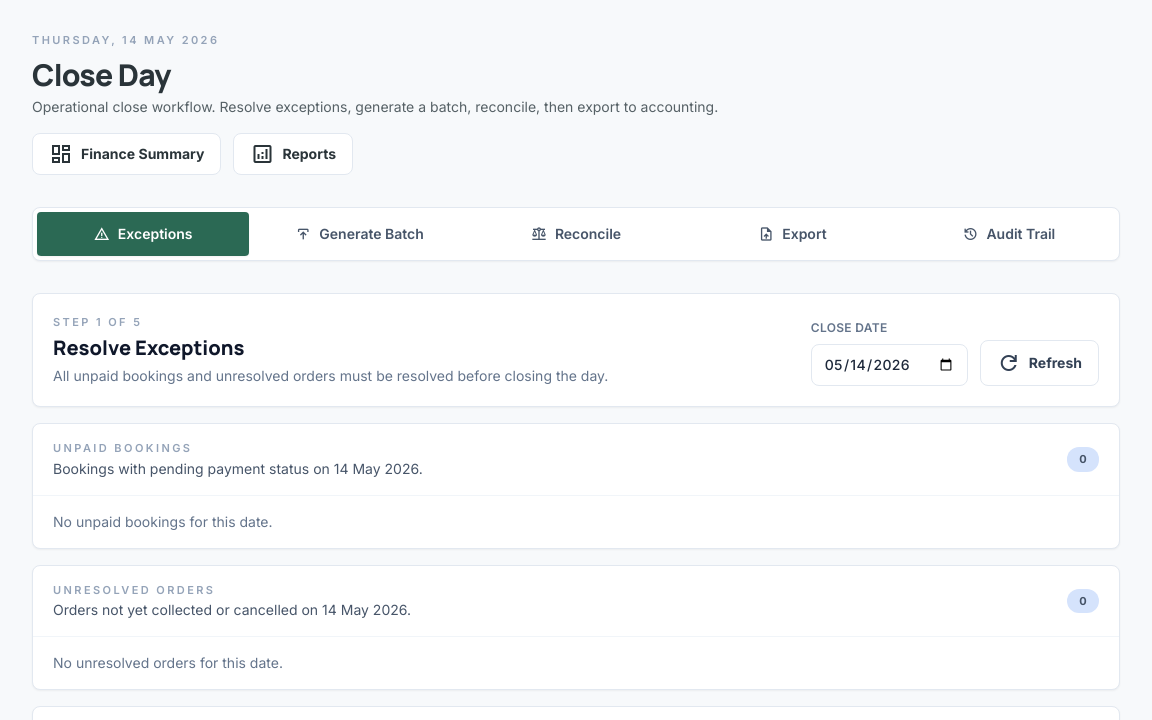
Test: AdminFinancePage - Close Day wizard › navigates through all steps via step nav buttons
Click the button named "publish generate batch": point(360, 234) [253,212,466,256]
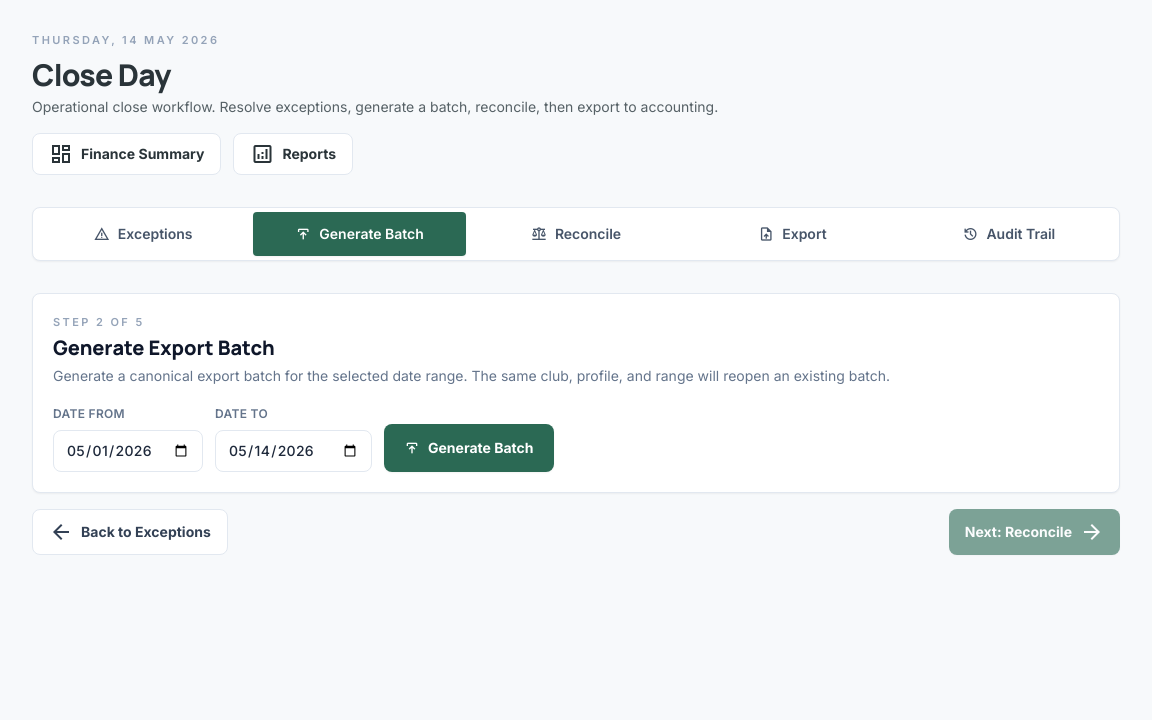
Check: the heading "Generate Export Batch" is shown, box [53,334,275,361]
Click the button named "balance reconcile": point(576, 234) [470,212,682,256]
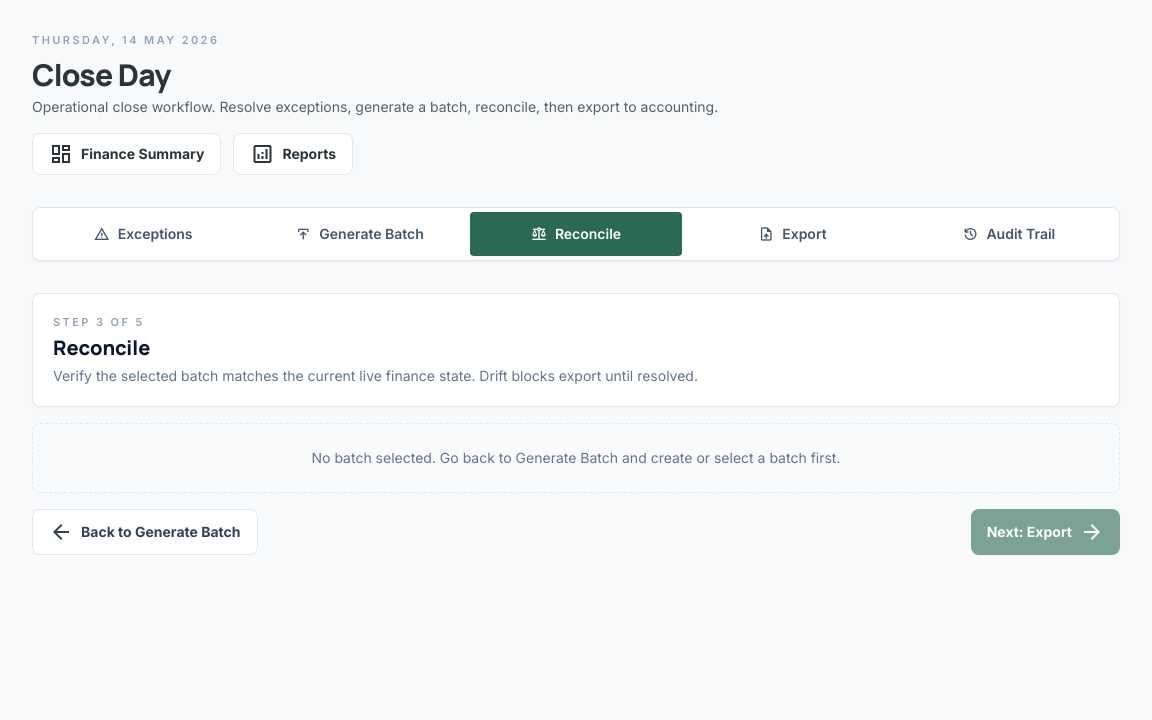
Check: the heading "Reconcile" is shown, box [53,334,150,361]
Click the button named "history audit trail": point(1009, 234) [903,212,1115,256]
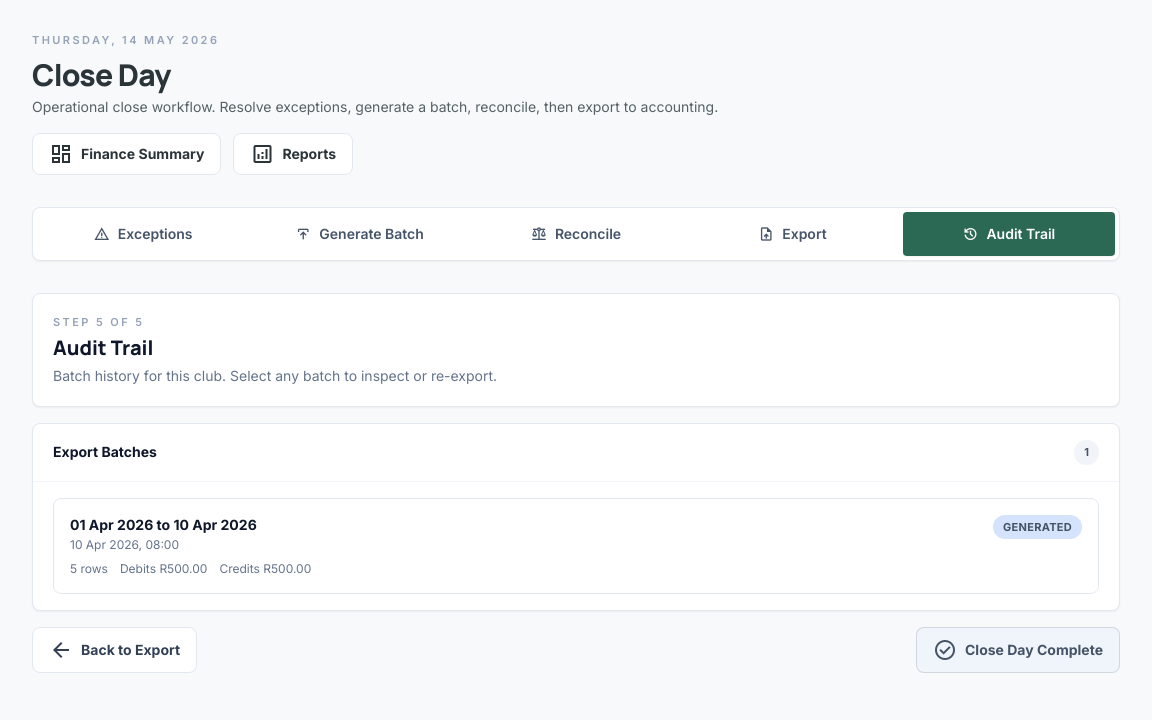
Check: the heading "Audit Trail" is shown, box [53,334,153,361]
